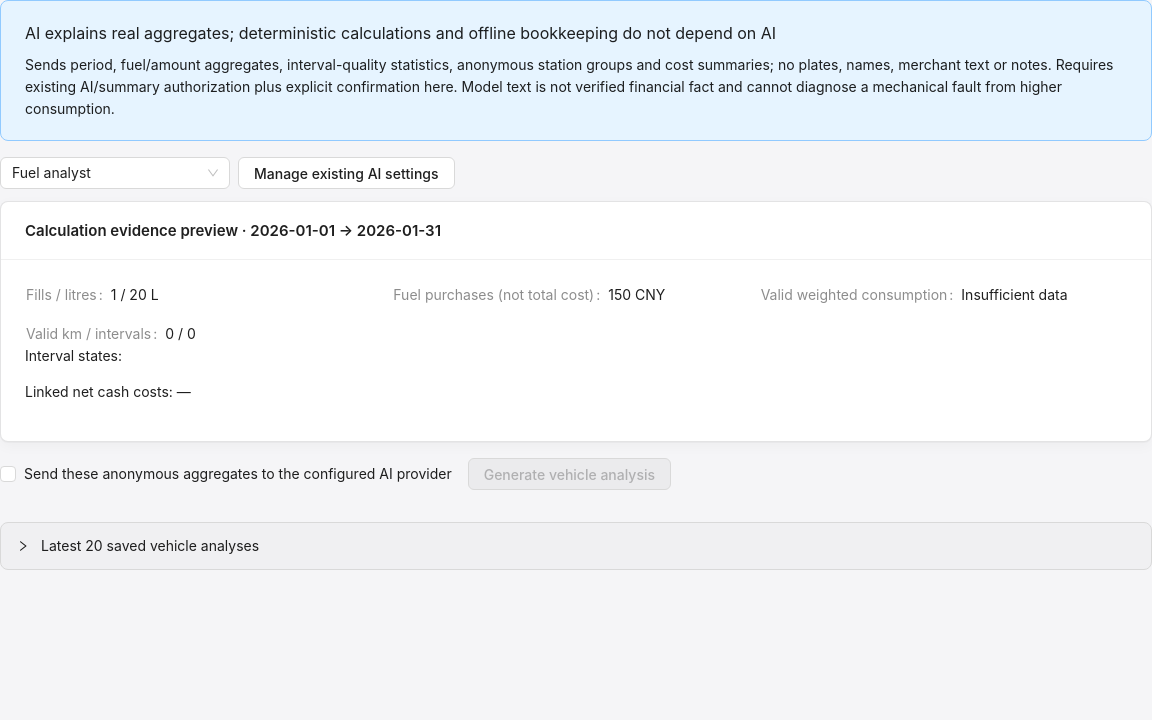
Test case: requires explicit transmission consent and preserves deterministic evidence on provider failure
Expected: the text "Insufficient data" is shown, [961, 286, 1068, 303]
Expected: the button "Generate vehicle analysis" is disabled, [468, 458, 671, 490]
Click the checkbox. click: (230, 474)
box: [0, 463, 460, 485]
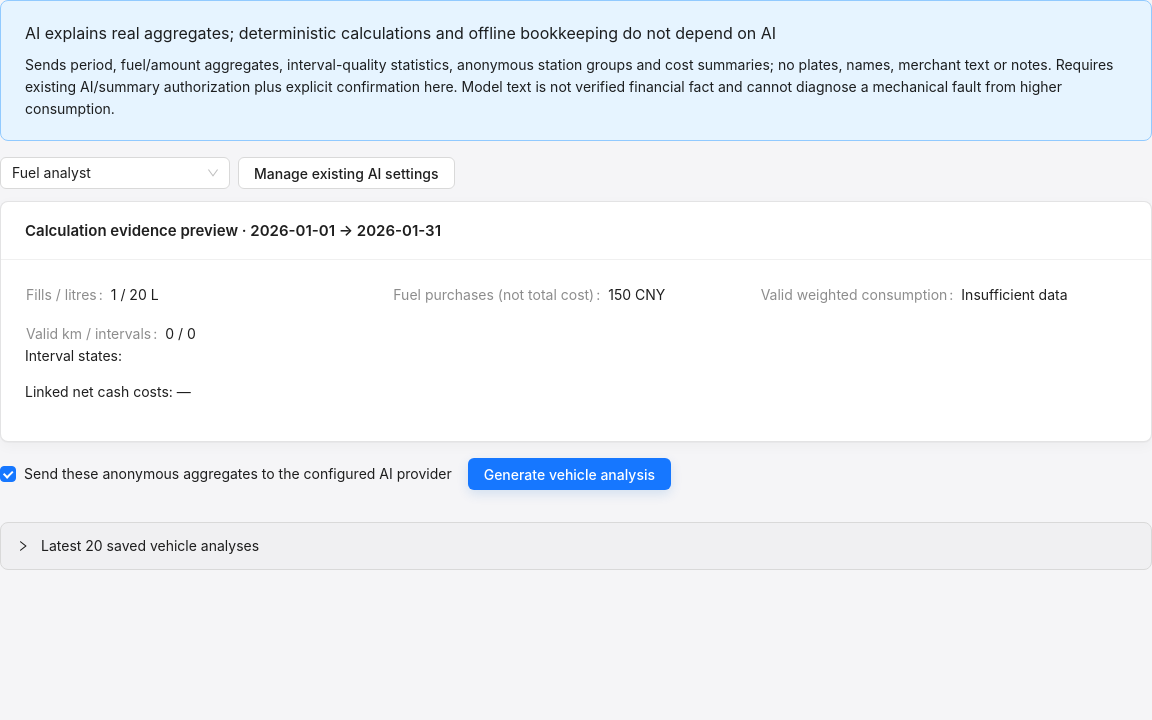
Expected: the button "Generate vehicle analysis" is enabled
Click the button "Generate vehicle analysis". click: (569, 474)
box: [468, 458, 671, 490]
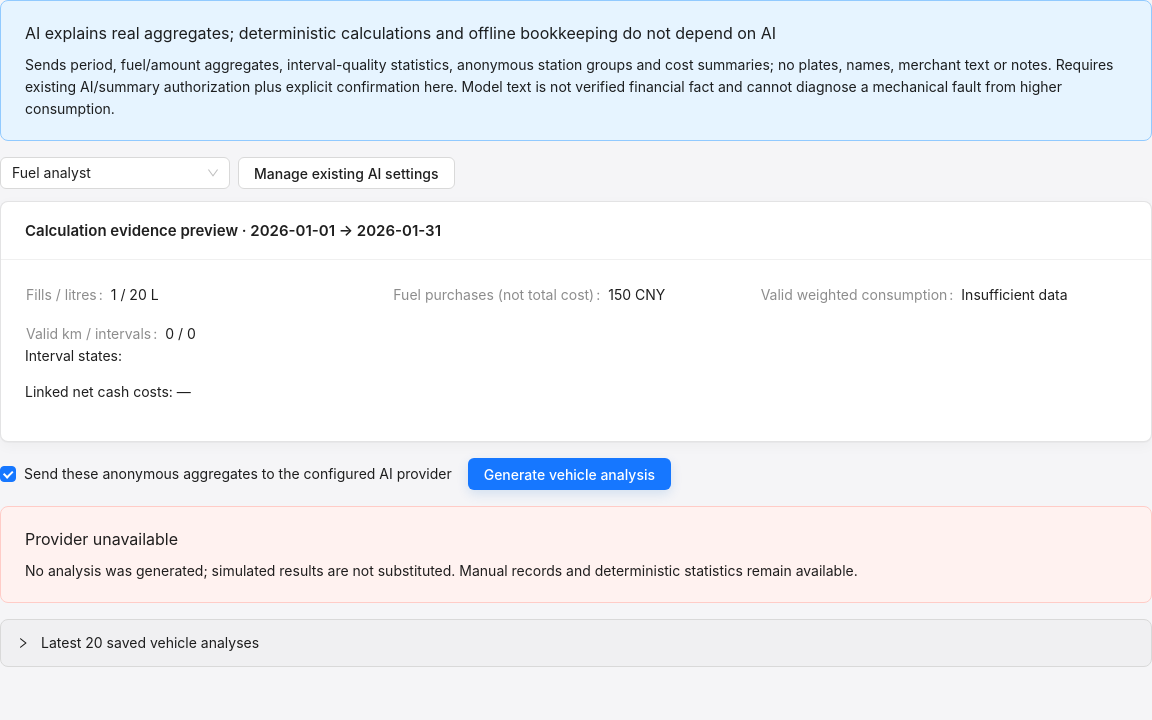
Expected: the text "Insufficient data" is shown, [961, 286, 1068, 303]
Expected: the text "Provider unavailable" is shown, [25, 529, 178, 549]
